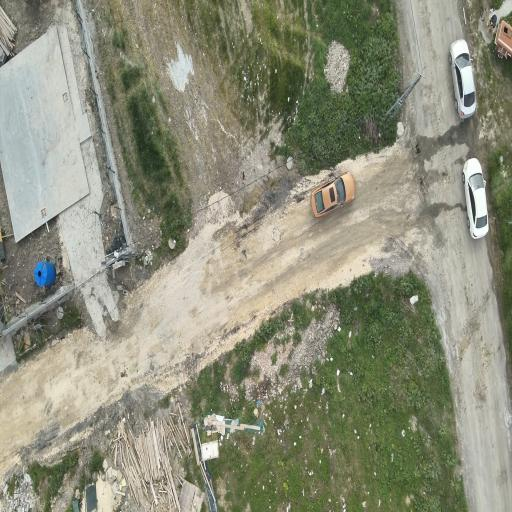car: (462, 158, 488, 238), (449, 40, 475, 118), (311, 172, 354, 217)
person: (487, 14, 497, 30)
